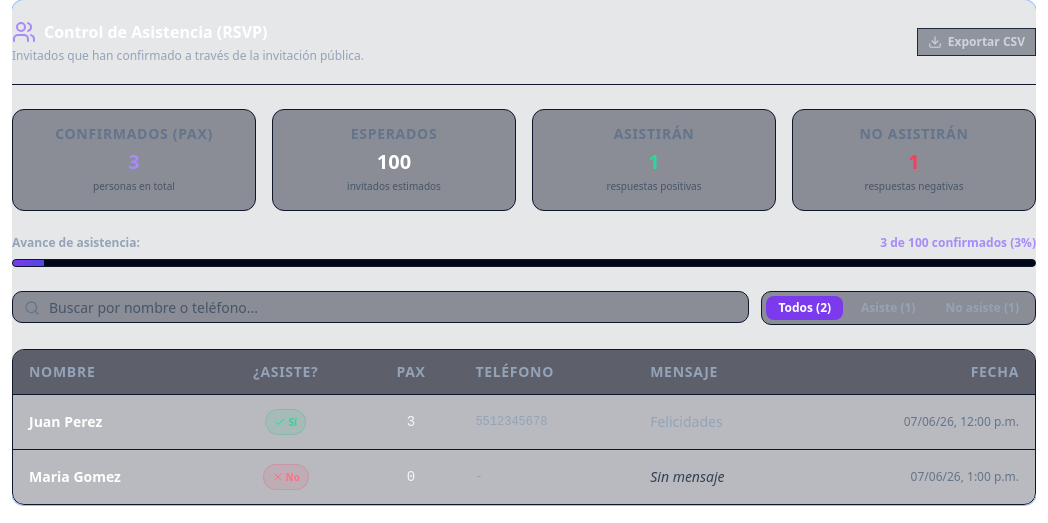
Scenario: RSVPTable Component Tests › debe filtrar confirmaciones al hacer clic en los botones de filtro
The width and height of the screenshot is (1048, 523).
Expected: the text "Juan Perez" is shown, [13,394,209,450]
Expected: the text "Maria Gomez" is shown, [13,450,209,504]
# Click "Asiste" filter button (anchor text to prevent matching "No asiste")
Click the button "Asiste (1)".
click(888, 308)  # box [849,296,927,320]
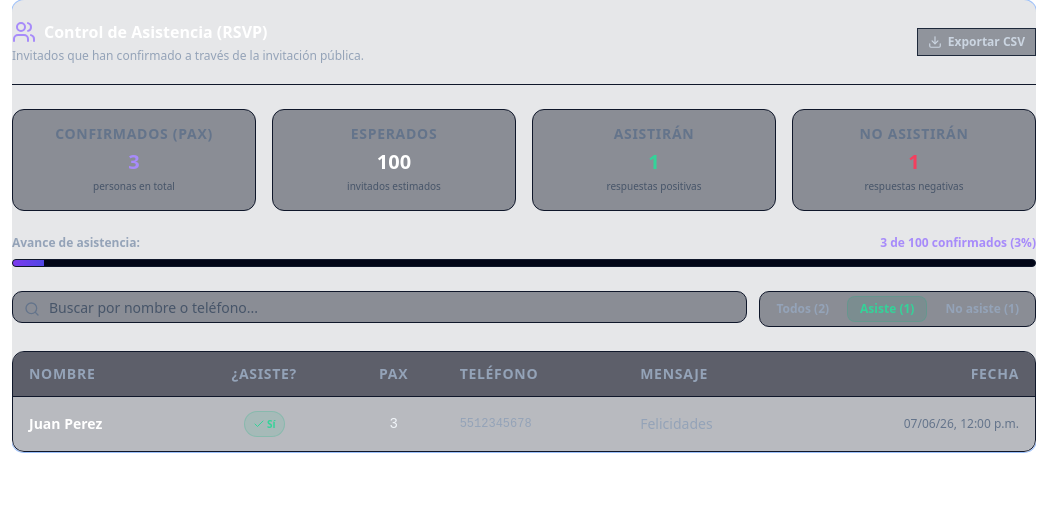
Expected: the text "Juan Perez" is shown, [13,396,185,451]
Expected: the text "Maria Gomez" is gone
